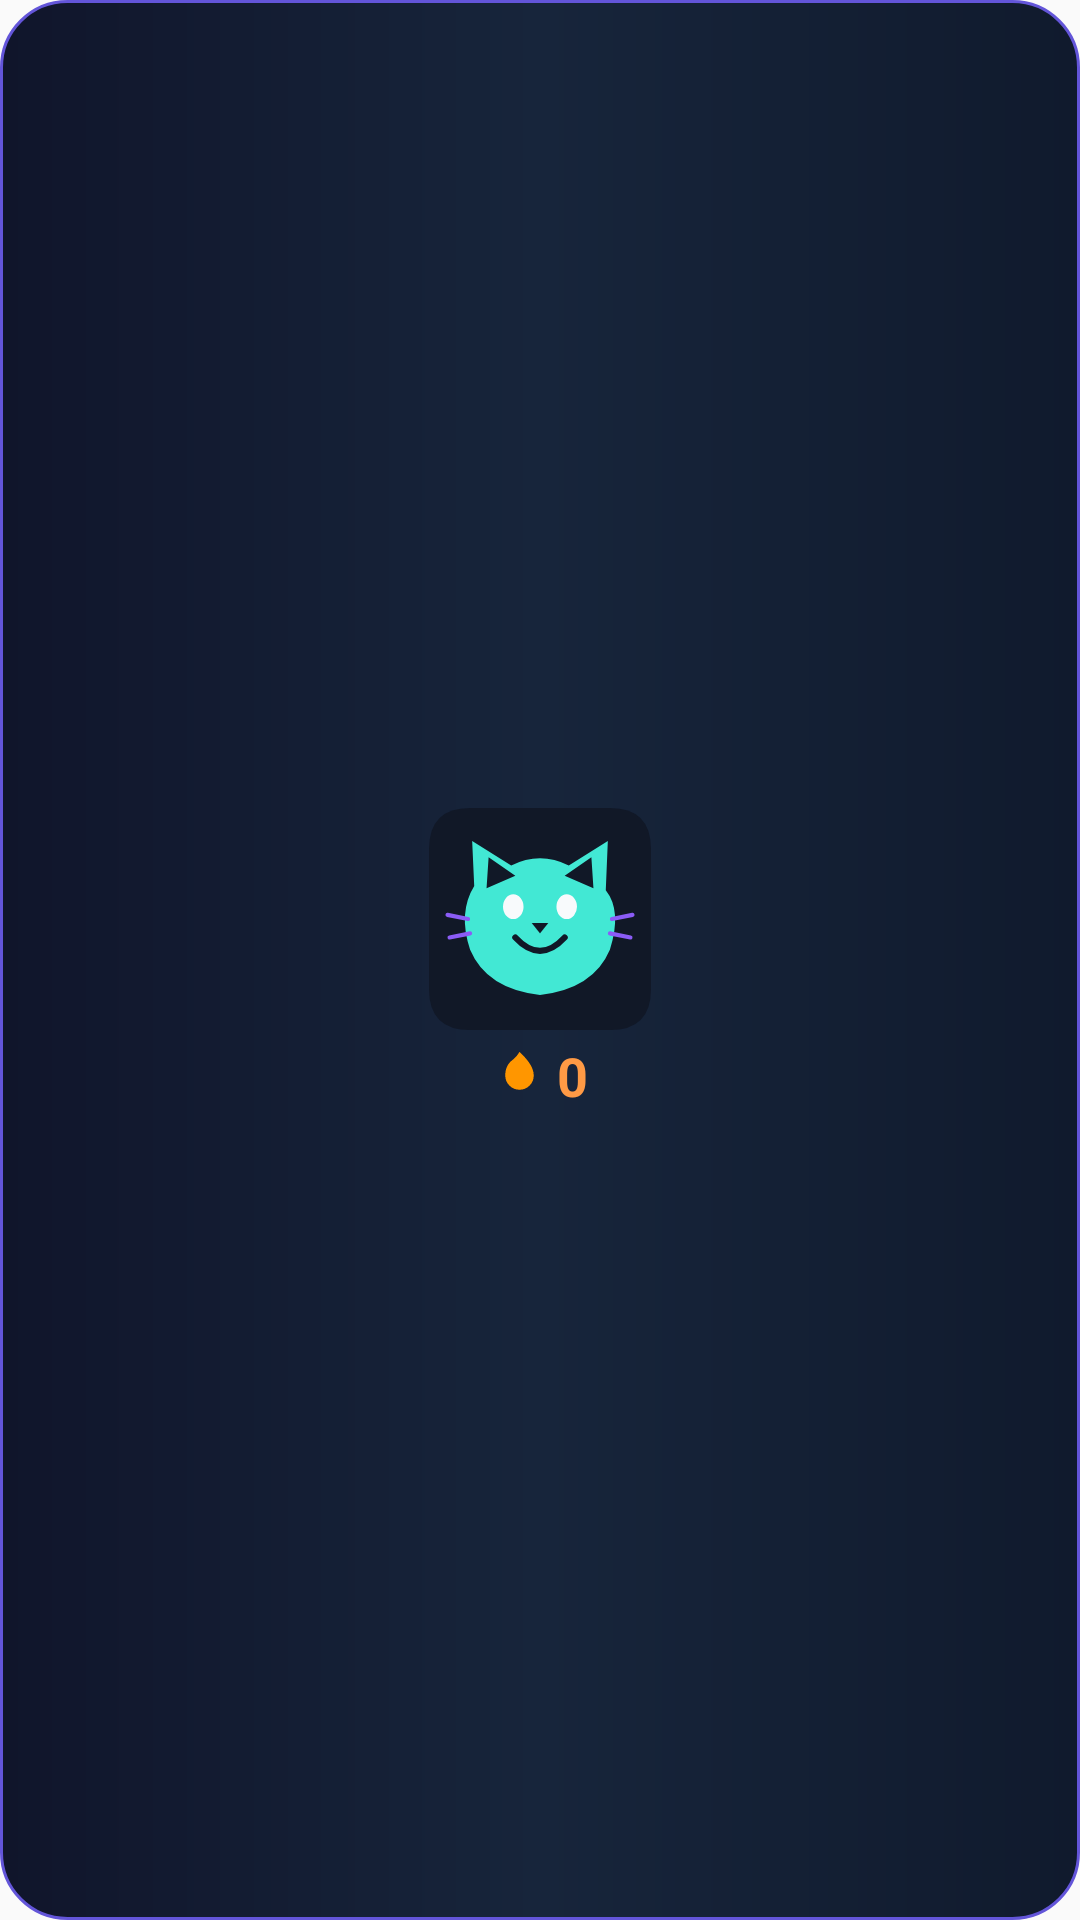

Locate icon controls on the screen. Image size 1080w x 1920h, boxes as box(x1, y1, x2, y2).
Nastrój cyberkota: box(445, 841, 635, 995)
Passa: box(505, 1052, 534, 1090)
